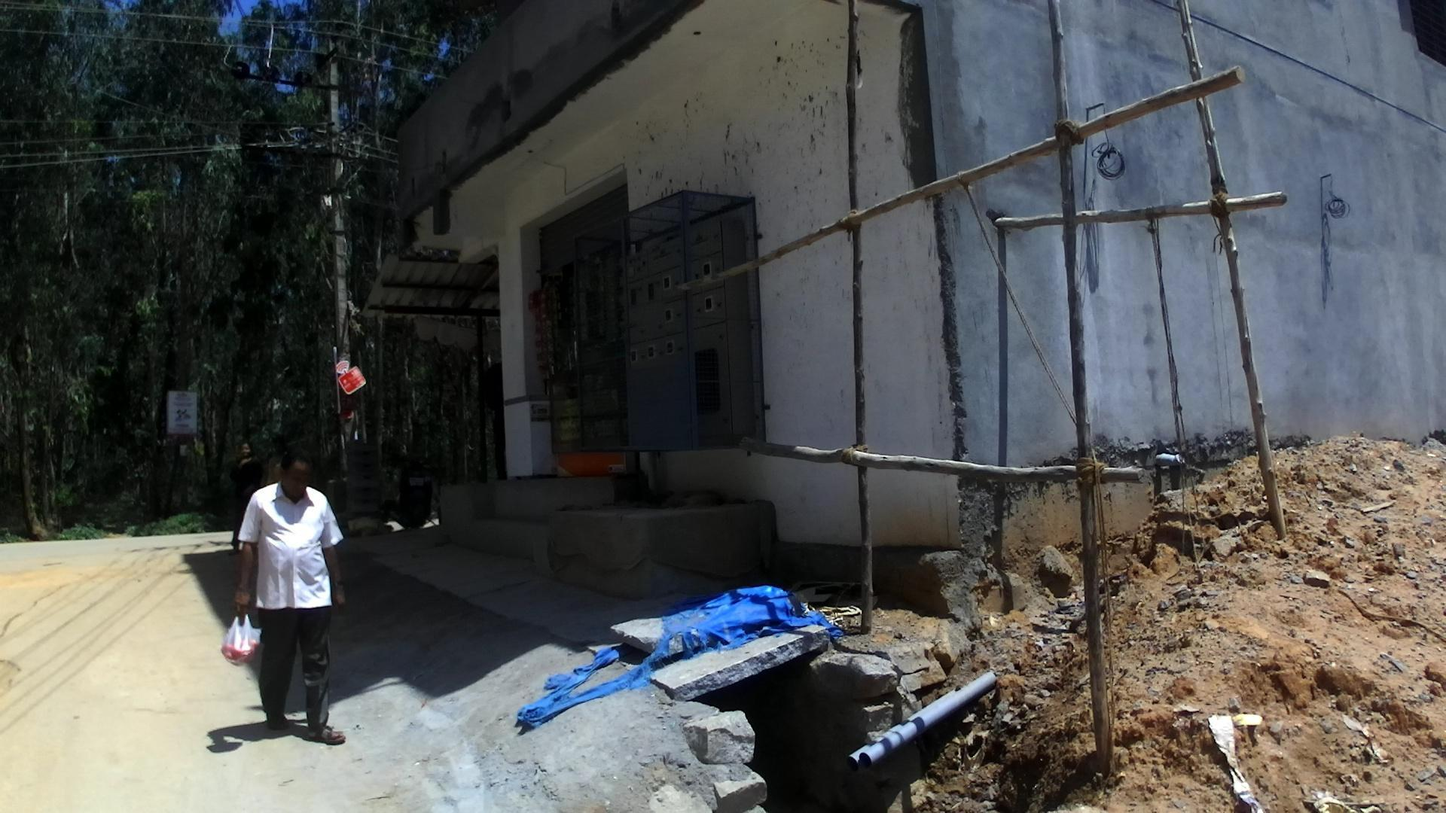streetlight: (322, 196, 349, 236)
